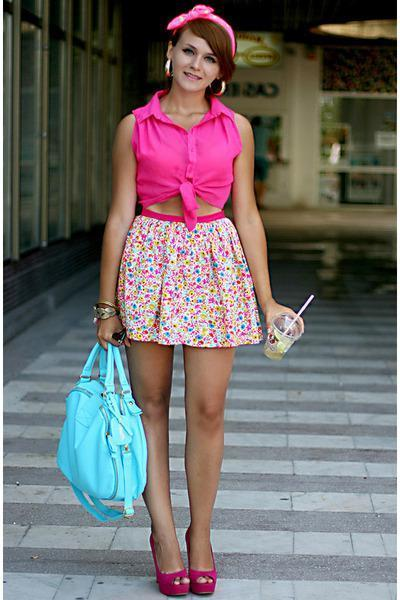Shorts: (115, 212, 271, 352)
short sleeve shirt: (127, 89, 243, 223)
